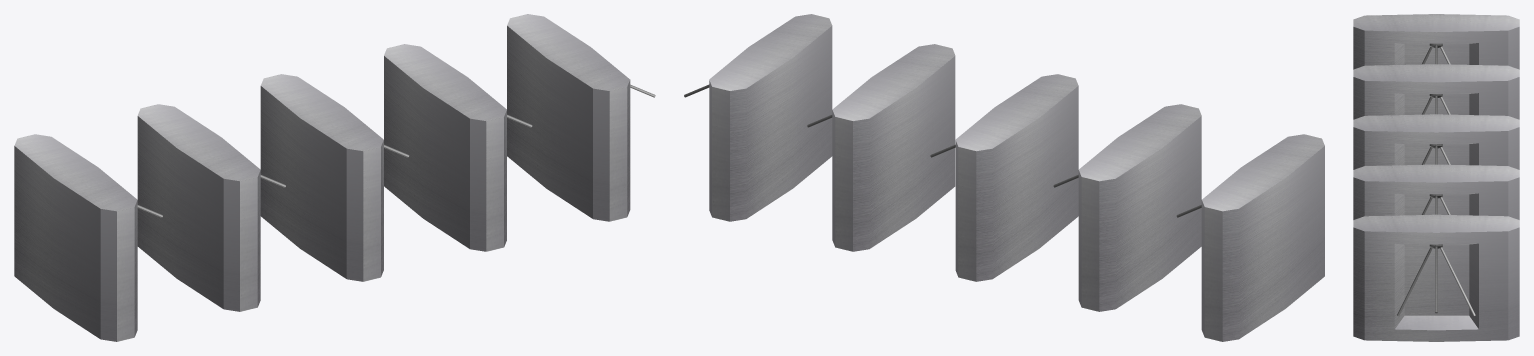
The model's file is LanGanMens.FBX.
3 views of the same model, side by side, from view 1: azimuth 30°, elevation 25°; view 2: azimuth 150°, elevation 25°; view 3: azimuth 270°, elevation 25° (orthographic). The views are drawn at different scales.
Visible parts, largest first — view 1: Rukou004, Rukou002, Rukou, Rukou003, Rukou001; view 2: Rukou004, Rukou003, Rukou, Rukou001, Rukou002; view 3: Rukou, Rukou004, Rukou003, Rukou002, Rukou001.
Part boxes in pixels (<box>): Rukou004: <box>14,134,162,341</box>; Rukou002: <box>260,74,409,281</box>; Rukou: <box>507,14,655,221</box>; Rukou003: <box>137,104,285,311</box>; Rukou001: <box>384,44,532,251</box>; Rukou004: <box>1176,134,1324,341</box>; Rukou003: <box>1053,104,1201,311</box>; Rukou: <box>684,14,832,221</box>; Rukou001: <box>807,44,955,251</box>; Rukou002: <box>930,74,1078,281</box>; Rukou: <box>1353,214,1519,341</box>; Rukou004: <box>1353,14,1519,69</box>; Rukou003: <box>1353,64,1519,119</box>; Rukou002: <box>1353,114,1519,169</box>; Rukou001: <box>1353,164,1519,219</box>.
Bounding box in the file's own units: 419 × 87.03 × 120.
